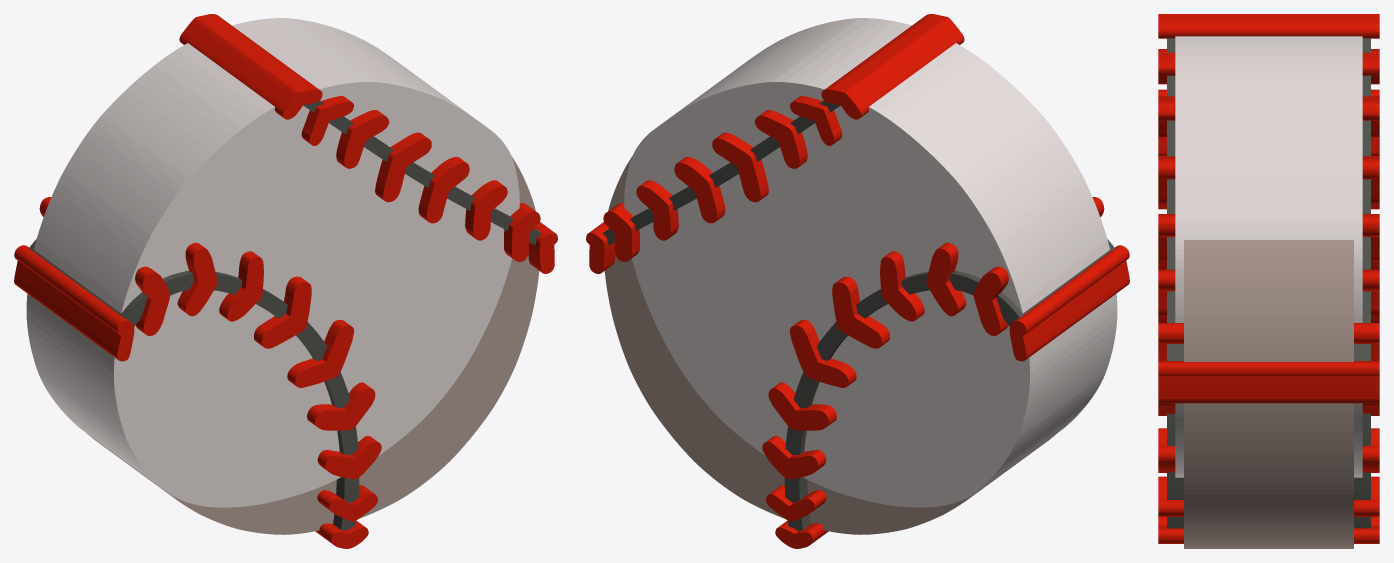
The picture shows the model from 3 angles, left to right: view 1: azimuth 30°, elevation 25°; view 2: azimuth 150°, elevation 25°; view 3: azimuth 270°, elevation 25°; orthographic projection. The views are drawn at different scales.
Parts seen in each view (by area): view 1: U+26BE_layer01_obj00, U+26BE_layer00_obj00, U+26BE_layer03_obj05, U+26BE_layer03_obj07, U+26BE_layer02_obj00, U+26BE_layer03_obj04, U+26BE_layer03_obj17, U+26BE_layer02_obj01, U+26BE_layer03_obj08, U+26BE_layer03_obj16, U+26BE_layer03_obj13, U+26BE_layer03_obj12 (+10 smaller); view 2: U+26BE_layer01_obj00, U+26BE_layer00_obj00, U+26BE_layer03_obj05, U+26BE_layer03_obj07, U+26BE_layer02_obj00, U+26BE_layer03_obj04, U+26BE_layer03_obj17, U+26BE_layer02_obj01, U+26BE_layer03_obj08, U+26BE_layer03_obj16, U+26BE_layer03_obj13, U+26BE_layer03_obj12 (+10 smaller); view 3: U+26BE_layer00_obj00, U+26BE_layer01_obj00, U+26BE_layer03_obj15, U+26BE_layer03_obj05, U+26BE_layer02_obj01, U+26BE_layer02_obj00, U+26BE_layer03_obj02, U+26BE_layer03_obj11, U+26BE_layer03_obj03, U+26BE_layer03_obj08, U+26BE_layer03_obj01, U+26BE_layer03_obj10 (+5 smaller).
Boxes of the visible parts, x1,y1,x2,y2 form: U+26BE_layer01_obj00: (26, 18, 519, 507); U+26BE_layer00_obj00: (86, 156, 539, 534); U+26BE_layer03_obj05: (179, 14, 322, 119); U+26BE_layer03_obj07: (14, 245, 134, 361); U+26BE_layer02_obj00: (29, 239, 359, 530); U+26BE_layer03_obj04: (254, 276, 311, 348); U+26BE_layer03_obj17: (287, 320, 354, 387); U+26BE_layer02_obj01: (303, 100, 541, 245); U+26BE_layer03_obj08: (375, 132, 431, 202); U+26BE_layer03_obj16: (307, 382, 375, 430); U+26BE_layer03_obj13: (177, 242, 217, 316); U+26BE_layer03_obj12: (219, 251, 263, 321); U+26BE_layer01_obj00: (624, 18, 1117, 507); U+26BE_layer00_obj00: (604, 156, 1057, 534); U+26BE_layer03_obj05: (821, 14, 964, 119); U+26BE_layer03_obj07: (1009, 245, 1129, 361); U+26BE_layer02_obj00: (784, 239, 1114, 530); U+26BE_layer03_obj04: (832, 276, 889, 348); U+26BE_layer03_obj17: (789, 320, 856, 387); U+26BE_layer02_obj01: (602, 100, 840, 245); U+26BE_layer03_obj08: (712, 132, 768, 202); U+26BE_layer03_obj16: (768, 382, 836, 430); U+26BE_layer03_obj13: (926, 242, 966, 316); U+26BE_layer03_obj12: (880, 251, 924, 321); U+26BE_layer00_obj00: (1184, 240, 1353, 548); U+26BE_layer01_obj00: (1175, 36, 1362, 477); U+26BE_layer03_obj15: (1158, 361, 1379, 403); U+26BE_layer03_obj05: (1158, 14, 1379, 38); U+26BE_layer02_obj01: (1167, 38, 1370, 360); U+26BE_layer02_obj00: (1167, 413, 1370, 528); U+26BE_layer03_obj02: (1158, 323, 1379, 360); U+26BE_layer03_obj11: (1158, 476, 1379, 516); U+26BE_layer03_obj03: (1158, 428, 1379, 472); U+26BE_layer03_obj08: (1158, 156, 1379, 203); U+26BE_layer03_obj01: (1158, 214, 1379, 260); U+26BE_layer03_obj10: (1158, 269, 1379, 315).
Bounding box in the file's own units: 0.3203 × 0.3253 × 0.13.
